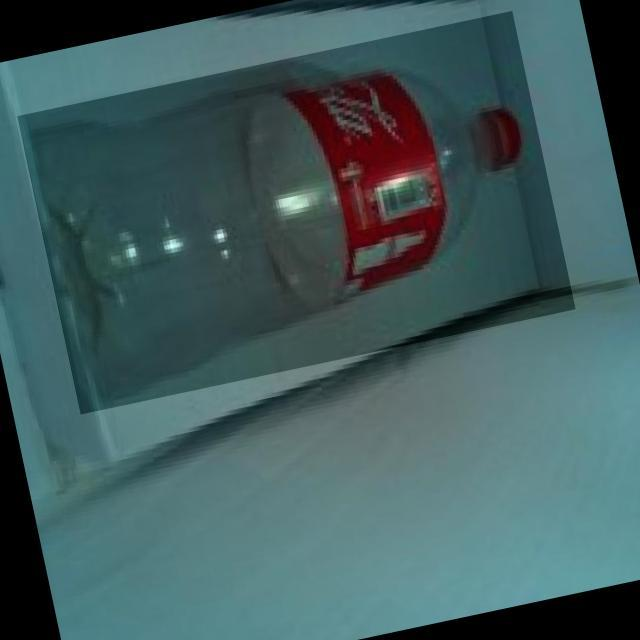good: (17, 9, 575, 413)
